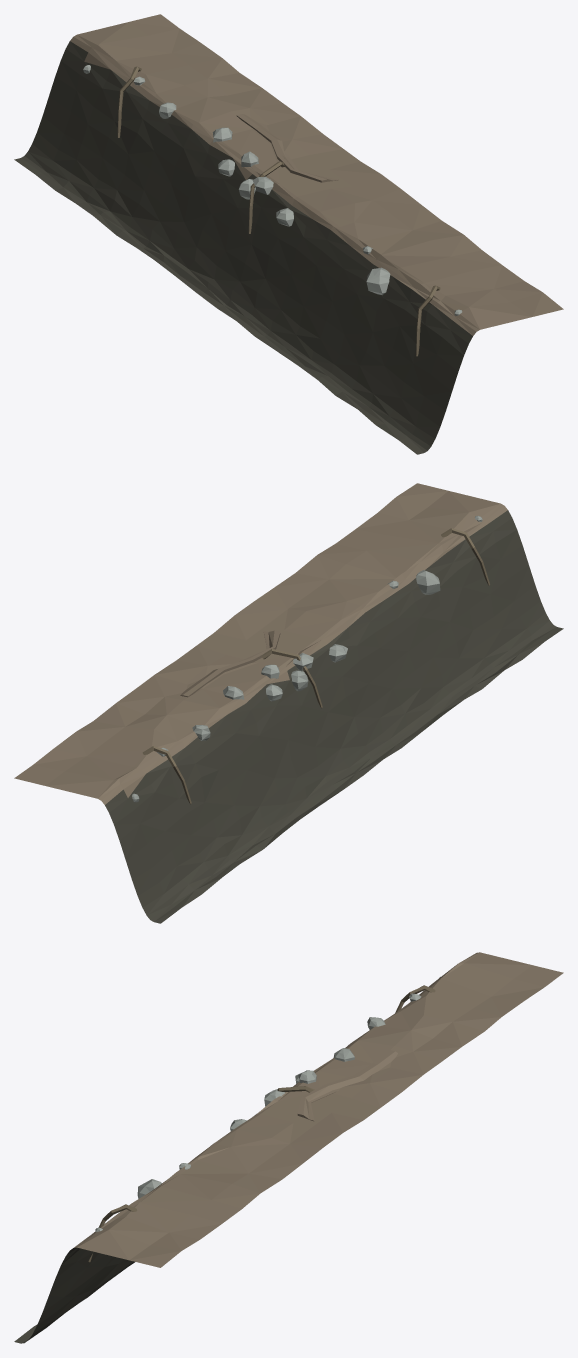
The model's file is river-bed-straight.fbx.
3 renders of one model, top to bottom at view 1: azimuth 30°, elevation 25°; view 2: azimuth 150°, elevation 25°; view 3: azimuth 330°, elevation 25°, orthographic.
Visible parts, largest first — view 1: BankProfile, BankStones, BankRoots, BankErosion; view 2: BankProfile, BankStones, BankRoots, BankErosion; view 3: BankProfile, BankStones, BankErosion, BankRoots.
Part boxes in pixels (left/top/right/bottom): BankProfile: left=14, top=14, right=563, bottom=454; BankStones: left=83, top=65, right=462, bottom=315; BankRoots: left=117, top=66, right=440, bottom=356; BankErosion: left=236, top=114, right=338, bottom=182; BankProfile: left=14, top=483, right=563, bottom=923; BankStones: left=132, top=515, right=482, bottom=802; BankRoots: left=142, top=528, right=489, bottom=804; BankErosion: left=180, top=630, right=280, bottom=697; BankProfile: left=14, top=952, right=563, bottom=1343; BankStones: left=95, top=976, right=440, bottom=1232; BankErosion: left=297, top=1050, right=397, bottom=1121; BankRoots: left=88, top=985, right=435, bottom=1262.
Bounding box in the file's own units: 2.1 × 1.65 × 10.
